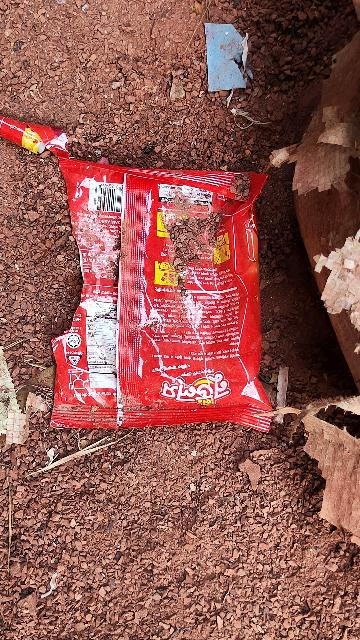packet: (54, 154, 272, 441)
